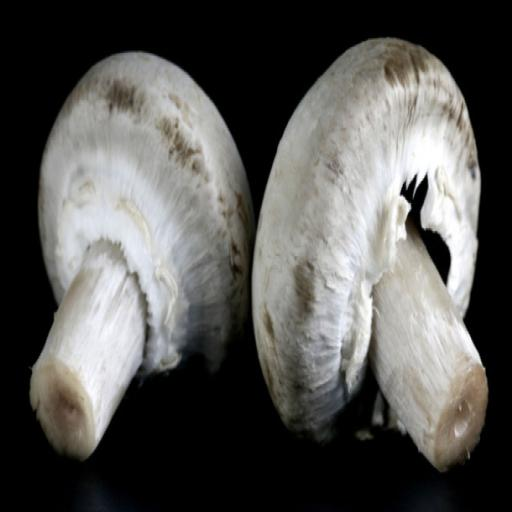Button Mushroom: (250, 34, 498, 471), (24, 43, 256, 462)
